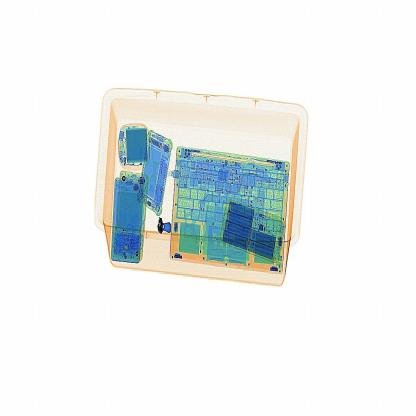wrench: (151, 217, 180, 242)
